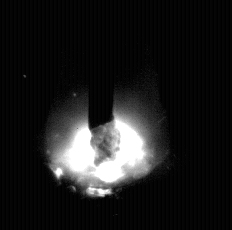arame: (89, 0, 115, 164)
poca: (44, 0, 169, 230)
